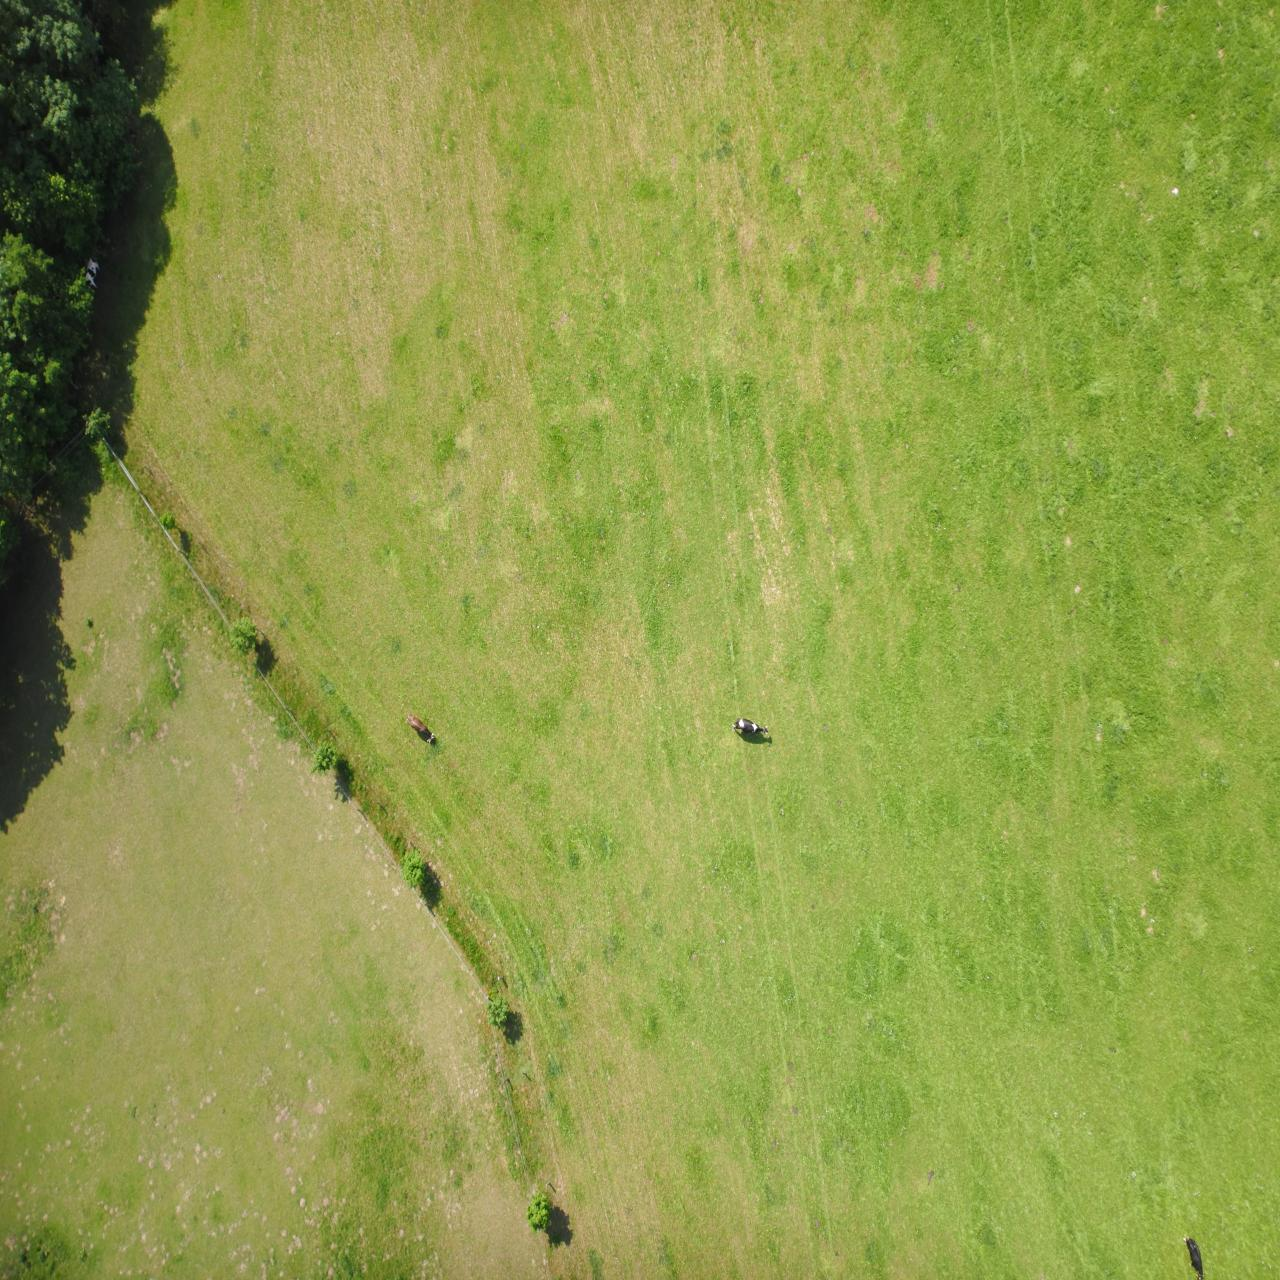cow: (845, 536, 873, 566), (512, 545, 547, 563)
